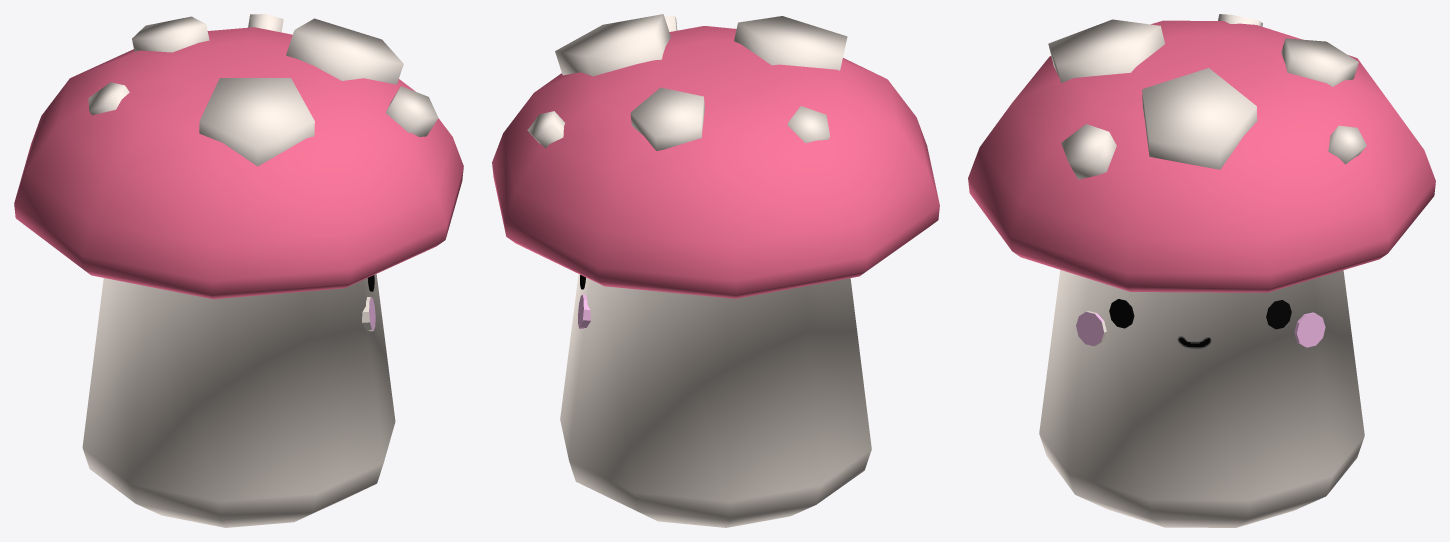
Rendered from Hongo2.fbx.
The picture shows the model from 3 angles, left to right: view 1: azimuth 30°, elevation 25°; view 2: azimuth 150°, elevation 25°; view 3: azimuth 270°, elevation 25°; orthographic projection. The views are drawn at different scales.
Visible parts, largest first — view 1: Red Mushroom.001; view 2: Red Mushroom.001; view 3: Red Mushroom.001.
Boxes of the visible parts, x1=… form: Red Mushroom.001: x1=14, y1=14, x2=463, y2=527; Red Mushroom.001: x1=492, y1=14, x2=939, y2=527; Red Mushroom.001: x1=968, y1=14, x2=1435, y2=527.
Bounding box in the file's own units: 29.42 × 32.15 × 30.79.
